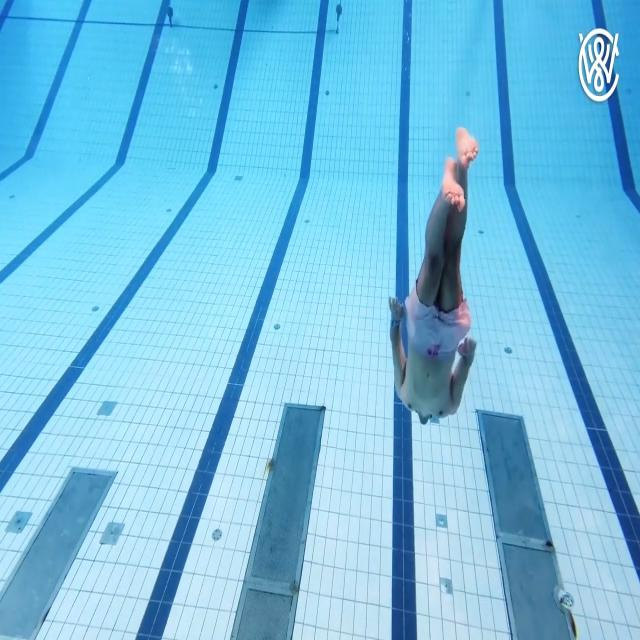Swimming: (388, 120, 482, 424)
